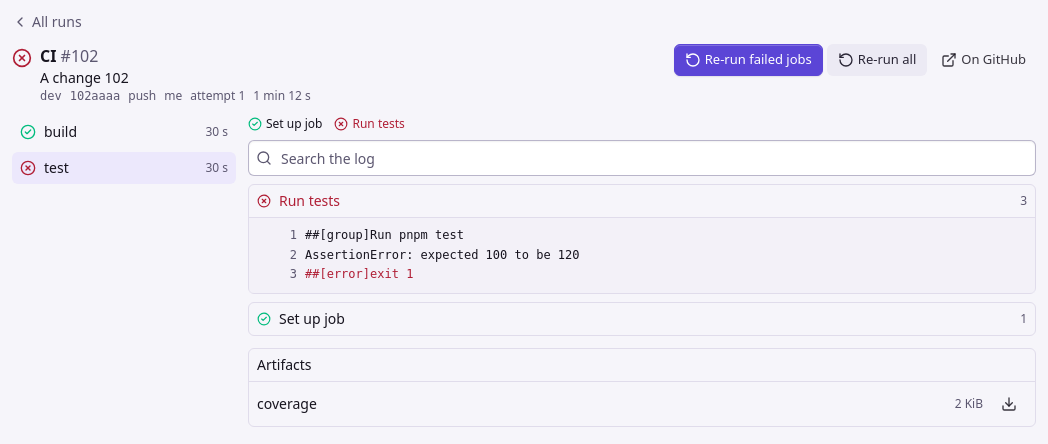
Test: a run (ADR-058) › opens on the failing job, its failing step first and open, searchable
The width and height of the screenshot is (1048, 444).
Expected: the text "AssertionError: expected 100 to be 120" is shown, [305,248,580,262]
Expected: the button "test 30 s" is shown, [12,152,236,184]
Type "assert" into the field labelled "Search the log".
click(642, 158); type("assert")  # box [248,140,1036,176]
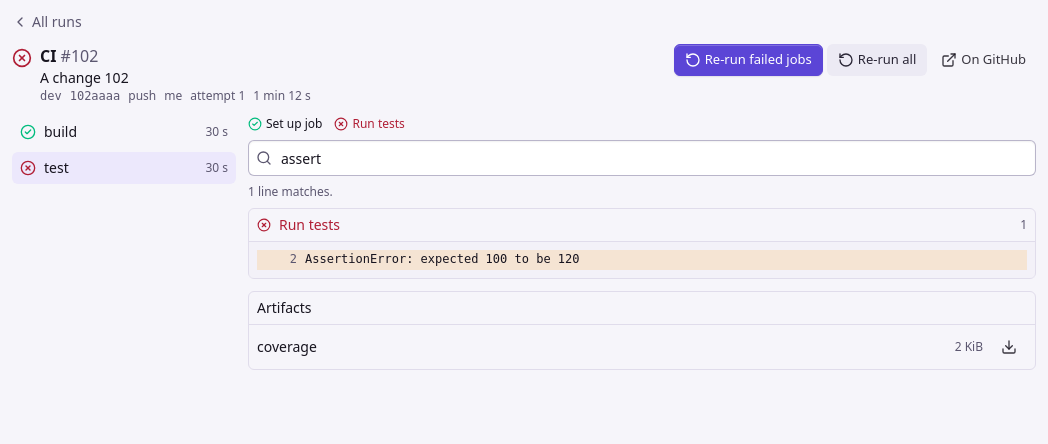
Expected: the text "coverage" is shown, [257,336,317,356]
Expected: the text "1 line matches." is shown, [248,183,333,200]
